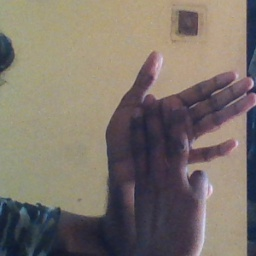M: (99, 48, 256, 219)
